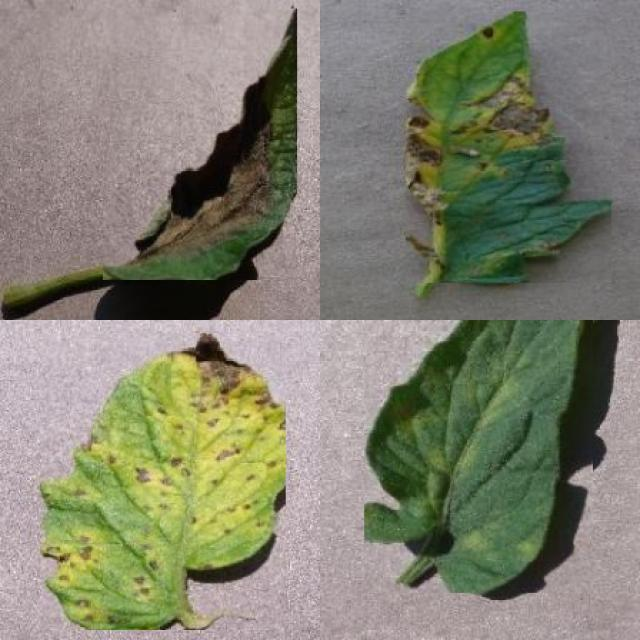Early Blight: (405, 12, 612, 282)
Late Blight: (103, 8, 297, 280)
Leaf Mold: (365, 320, 594, 593)
Septoria: (37, 333, 286, 630)
